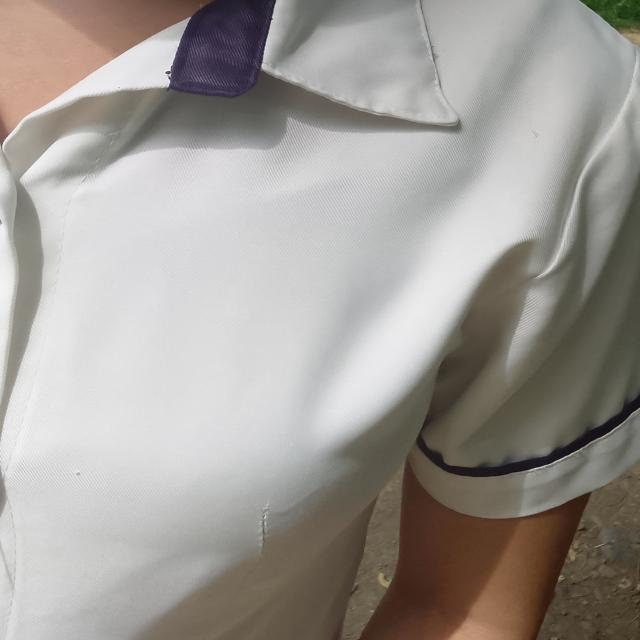education_female_uniform: (6, 3, 640, 591)
